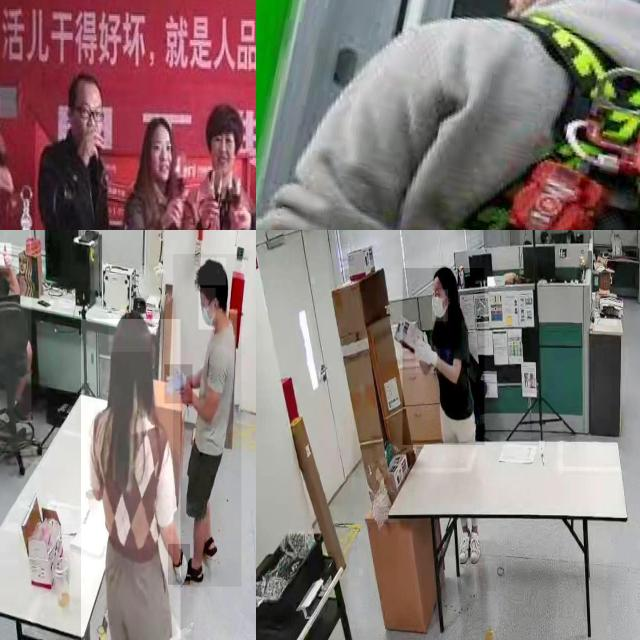Harness: (459, 13, 640, 230)
No_Ear-Protection: (203, 102, 245, 192), (68, 74, 108, 157), (141, 114, 179, 198)
face_mask: (198, 288, 216, 330), (432, 290, 448, 322)
hand_glove: (165, 364, 192, 404), (168, 544, 190, 586), (416, 337, 440, 373)
hand_noglove: (0, 243, 12, 269)
head_nohelmet: (109, 309, 151, 353), (196, 258, 227, 286), (432, 265, 457, 285)
person: (81, 319, 181, 640), (173, 254, 242, 588), (403, 268, 485, 446), (0, 230, 32, 452)
shoes: (456, 527, 473, 565), (468, 529, 485, 566)
